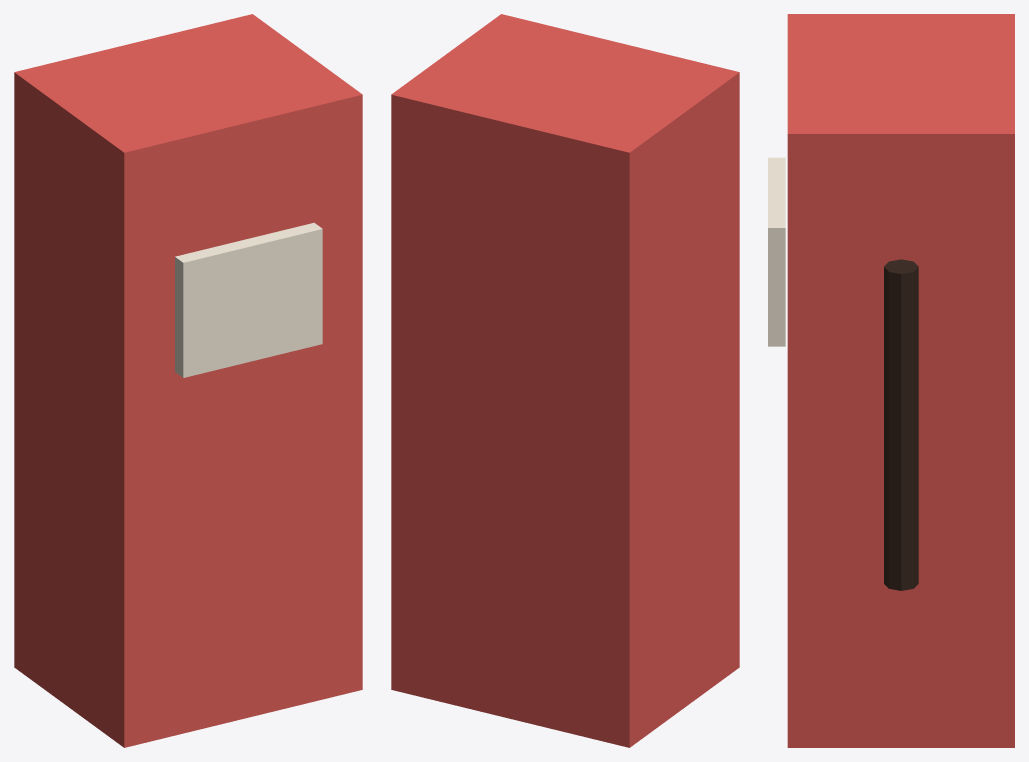
Rendered from prop_pertamini.fbx.
3 views of the same model, side by side, from view 1: azimuth 30°, elevation 25°; view 2: azimuth 150°, elevation 25°; view 3: azimuth 270°, elevation 25° (orthographic). The views are drawn at different scales.
Parts seen in each view (by area): view 1: prop_pertamini; view 2: prop_pertamini; view 3: prop_pertamini.
Boxes of the visible parts, box(x1,y1,x2,y2) form: prop_pertamini: box(14, 14, 362, 747); prop_pertamini: box(391, 14, 739, 747); prop_pertamini: box(768, 14, 1014, 747).
Size of the model in its own units: 76.5 by 155 by 56.5.
Materials: 1 (1 with a texture image).
